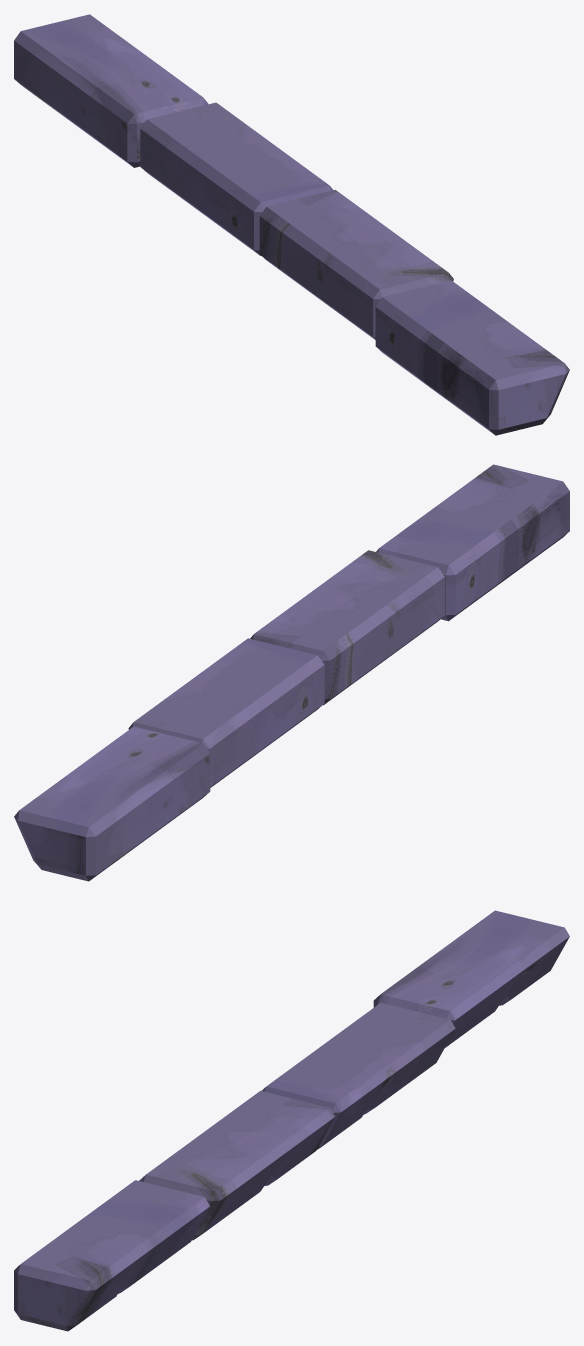
File: Step_Top_01.fbx
3 views of the same model, one above another, from view 1: azimuth 30°, elevation 25°; view 2: azimuth 150°, elevation 25°; view 3: azimuth 330°, elevation 25° (orthographic).
Parts seen in each view (by area): view 1: Step_Top_01; view 2: Step_Top_01; view 3: Step_Top_01.
Part boxes in pixels (bbox=[...]): Step_Top_01: bbox=[14, 14, 569, 435]; Step_Top_01: bbox=[14, 464, 569, 881]; Step_Top_01: bbox=[14, 910, 569, 1331].
Size of the model in its own units: 42.31 by 27.38 by 400.
